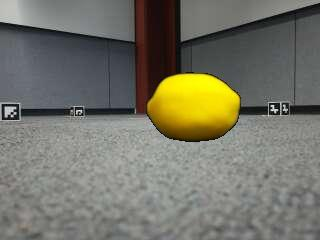lemon: (148, 73, 240, 140)
